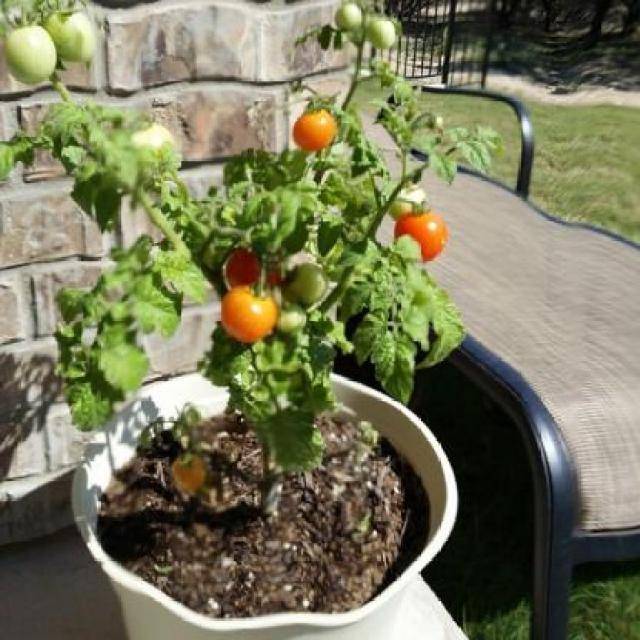Tomato: (221, 268, 287, 341), (390, 206, 450, 265), (3, 27, 62, 84), (42, 8, 100, 59), (226, 248, 282, 294), (286, 258, 331, 306), (293, 110, 339, 152), (383, 178, 426, 219), (135, 123, 174, 168), (278, 300, 308, 338), (334, 2, 368, 35), (366, 14, 399, 48), (172, 461, 200, 496)
